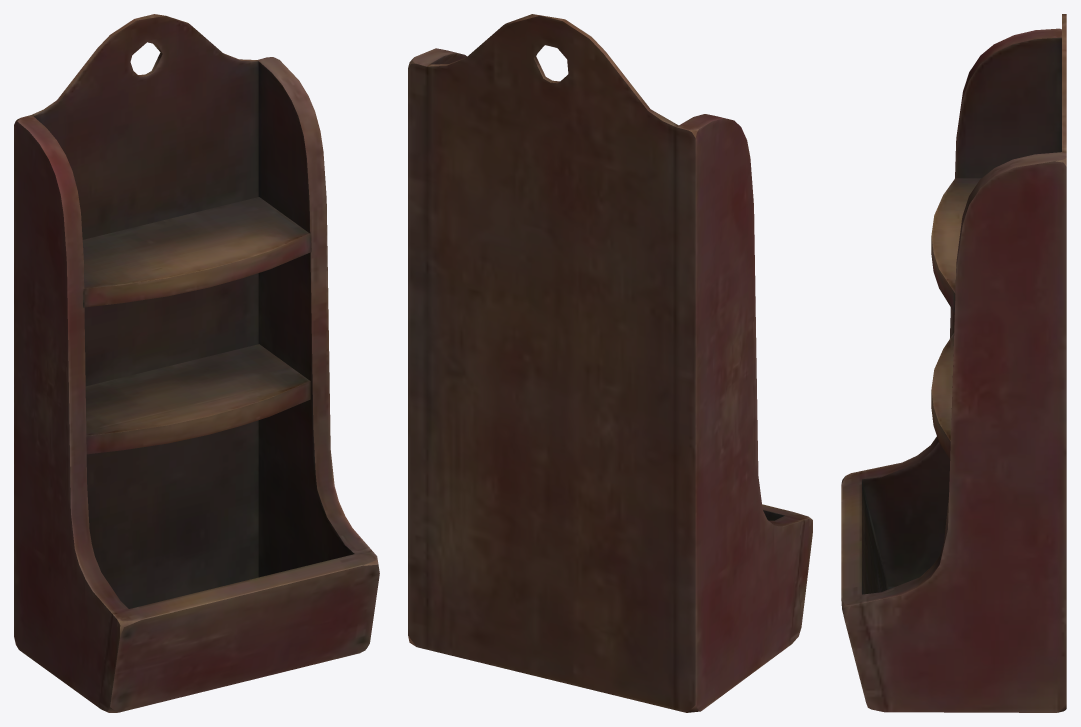
Rendered from painted_wooden_shelves.glb.
3 renders of one model, left to right at view 1: azimuth 30°, elevation 25°; view 2: azimuth 150°, elevation 25°; view 3: azimuth 270°, elevation 25°, orthographic. The views are drawn at different scales.
Parts seen in each view (by area): view 1: painted_wooden_shelves; view 2: painted_wooden_shelves; view 3: painted_wooden_shelves.
Boxes of the visible parts, x1,y1,x2,y2 form: painted_wooden_shelves: (14,14,379,712); painted_wooden_shelves: (408,14,812,712); painted_wooden_shelves: (841,14,1066,712).
Size of the model in its own units: 0.5111 by 1.12 by 0.3671.
1 material, 1 textured.
